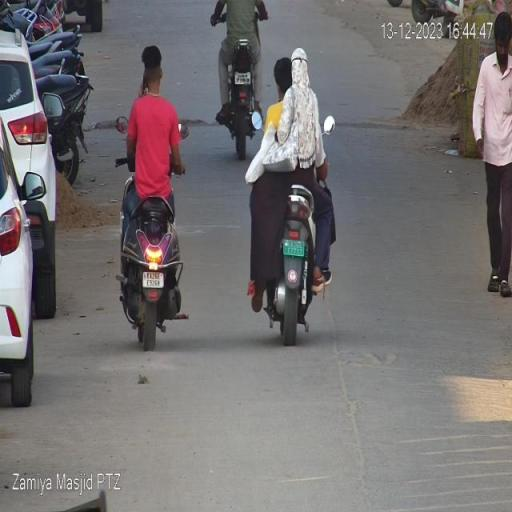using mobile: (140, 71, 148, 98)
